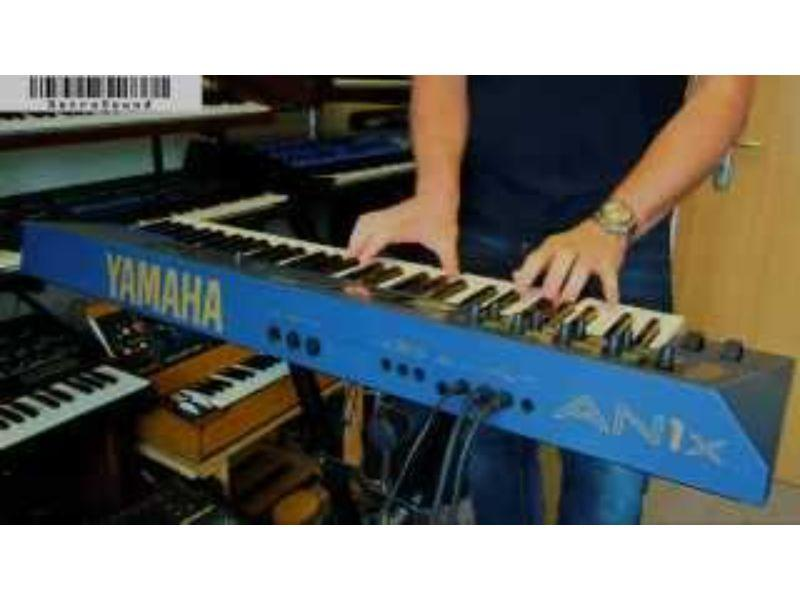synthesizer: (9, 212, 790, 496)
